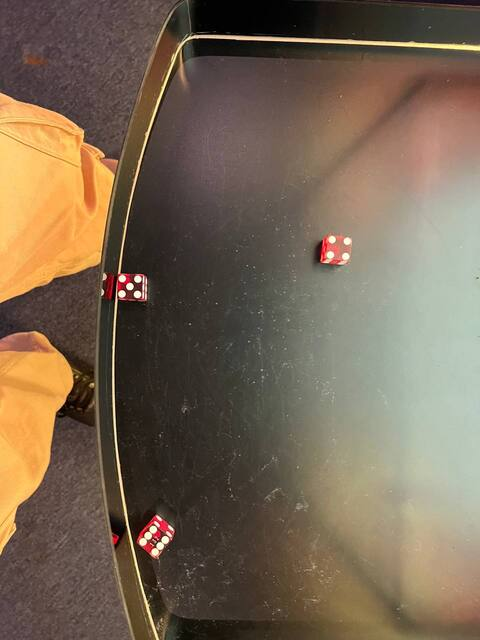five: (113, 270, 148, 303)
four: (320, 231, 355, 263)
six: (133, 521, 176, 562)
